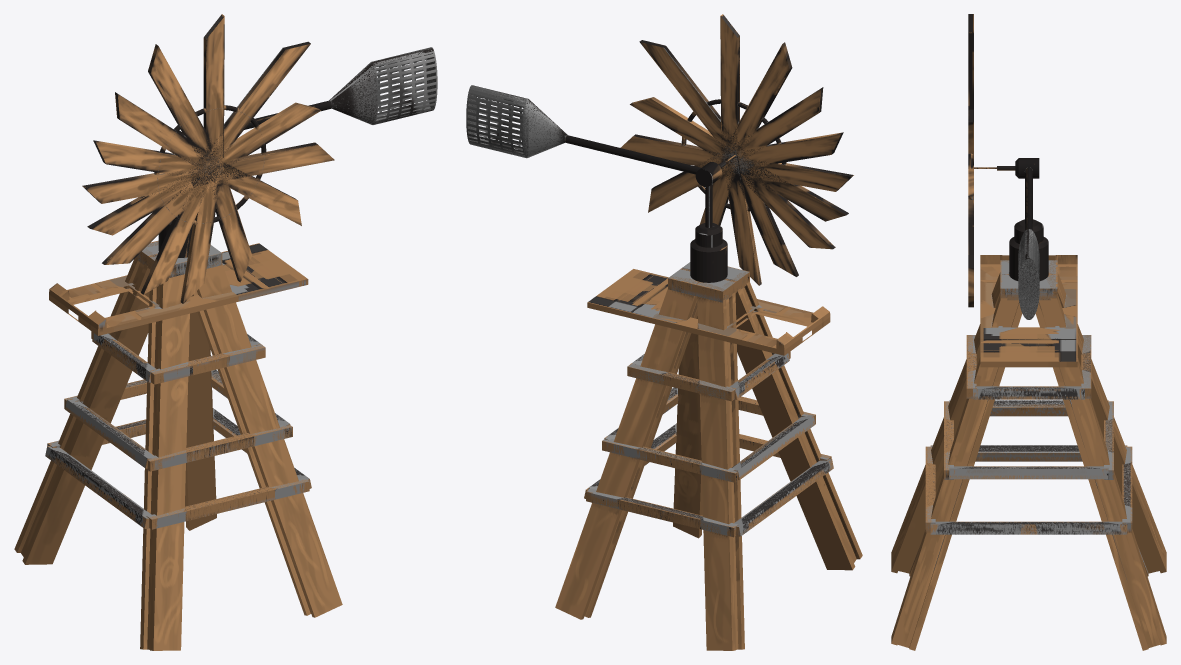
The model's file is Molino.fbx.
3 views of the same model, side by side, from view 1: azimuth 30°, elevation 25°; view 2: azimuth 150°, elevation 25°; view 3: azimuth 270°, elevation 25° (orthographic). The views are drawn at different scales.
Parts seen in each view (by area): view 1: Torre, Aspas, Bandera; view 2: Torre, Aspas, Bandera, Rotor; view 3: Torre, Bandera, Rotor, Aspas.
Boxes of the visible parts, x1,y1,x2,y2 form: Torre: [14, 240, 342, 650]; Aspas: [82, 14, 334, 303]; Bandera: [244, 47, 437, 129]; Torre: [555, 262, 862, 650]; Aspas: [620, 14, 853, 285]; Bandera: [466, 85, 701, 174]; Rotor: [690, 155, 735, 282]; Torre: [891, 255, 1166, 650]; Bandera: [1018, 167, 1039, 319]; Rotor: [974, 158, 1048, 280]; Aspas: [968, 14, 973, 307].
Size of the model in its own units: 229 by 342 by 146.
Materials: 2 (2 with a texture image).
